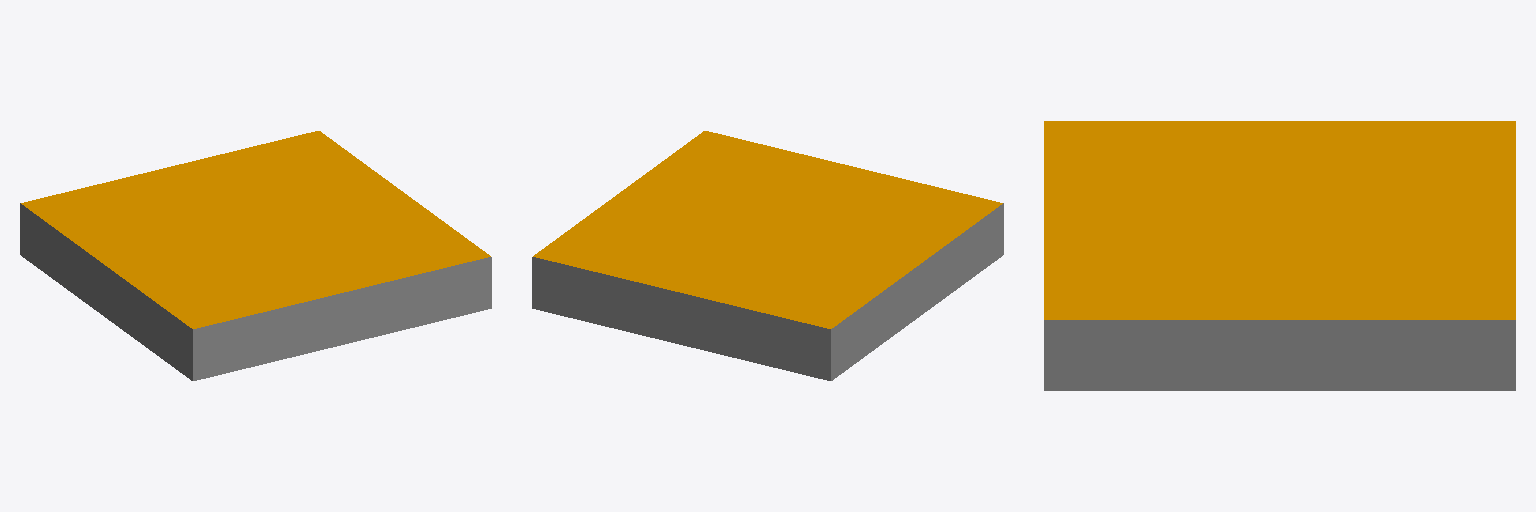
The robot description file, URDF, robot "ar_2020":
<robot name="ar_2020">

	<!-- * * * Link Definitions * * * -->

    <link name="simple_box_base_link">
 	    <inertial>
            <origin xyz="0 0 0" rpy="0 0 0"/>
            <mass value="1.0" />
            <inertia ixx="0.0741666666667" ixy="0.0" ixz="0.0" iyy="0.0585416666667" iyz="0.0" izz="0.0260416666667"/>
        </inertial>
        <collision>
            <origin xyz="0 0 0" rpy="0 0 0"/>
            <geometry>
                <box size="0.2 0.2 0.2"/>
            </geometry>
        </collision>
        <visual>
            <origin rpy="0.0 0 0" xyz="0 0 0"/>
            <geometry>
                <!--<box size="0.8 0.8 0.2"/>-->
                <mesh filename="package://asl_turtlebot/models/box_carrot/box_carrot.dae"/>
            </geometry>
        </visual>
    </link>
    
    <gazebo reference="simple_box_base_link">
        <kp>100000.0</kp>
        <kd>100000.0</kd>
        <mu1>0.1</mu1>
        <mu2>0.1</mu2>
        <fdir1>1 0 0</fdir1>
    </gazebo>

</robot>

--- What the picture shows (computed from the rendered views, not written in the file) ---
Views: 3 orthographic renders of the robot side by side, from view 1: azimuth 30°, elevation 25°; view 2: azimuth 150°, elevation 25°; view 3: azimuth 270°, elevation 25°.
Robot: ar_2020 — 1 links, 0 joints (none); root link simple_box_base_link; default pose: every joint at zero.
Links seen in each view (by area): view 1: simple_box_base_link; view 2: simple_box_base_link; view 3: simple_box_base_link.
Link boxes in pixels (x1=…): simple_box_base_link: x1=20, y1=131, x2=491, y2=380; simple_box_base_link: x1=532, y1=131, x2=1003, y2=380; simple_box_base_link: x1=1044, y1=121, x2=1515, y2=390.
Bounding box of the posed robot: 0.09 × 0.09 × 0.015 m (x, y, z).
1 mesh visuals loaded from 1 distinct referenced files (1 Collada DAE).